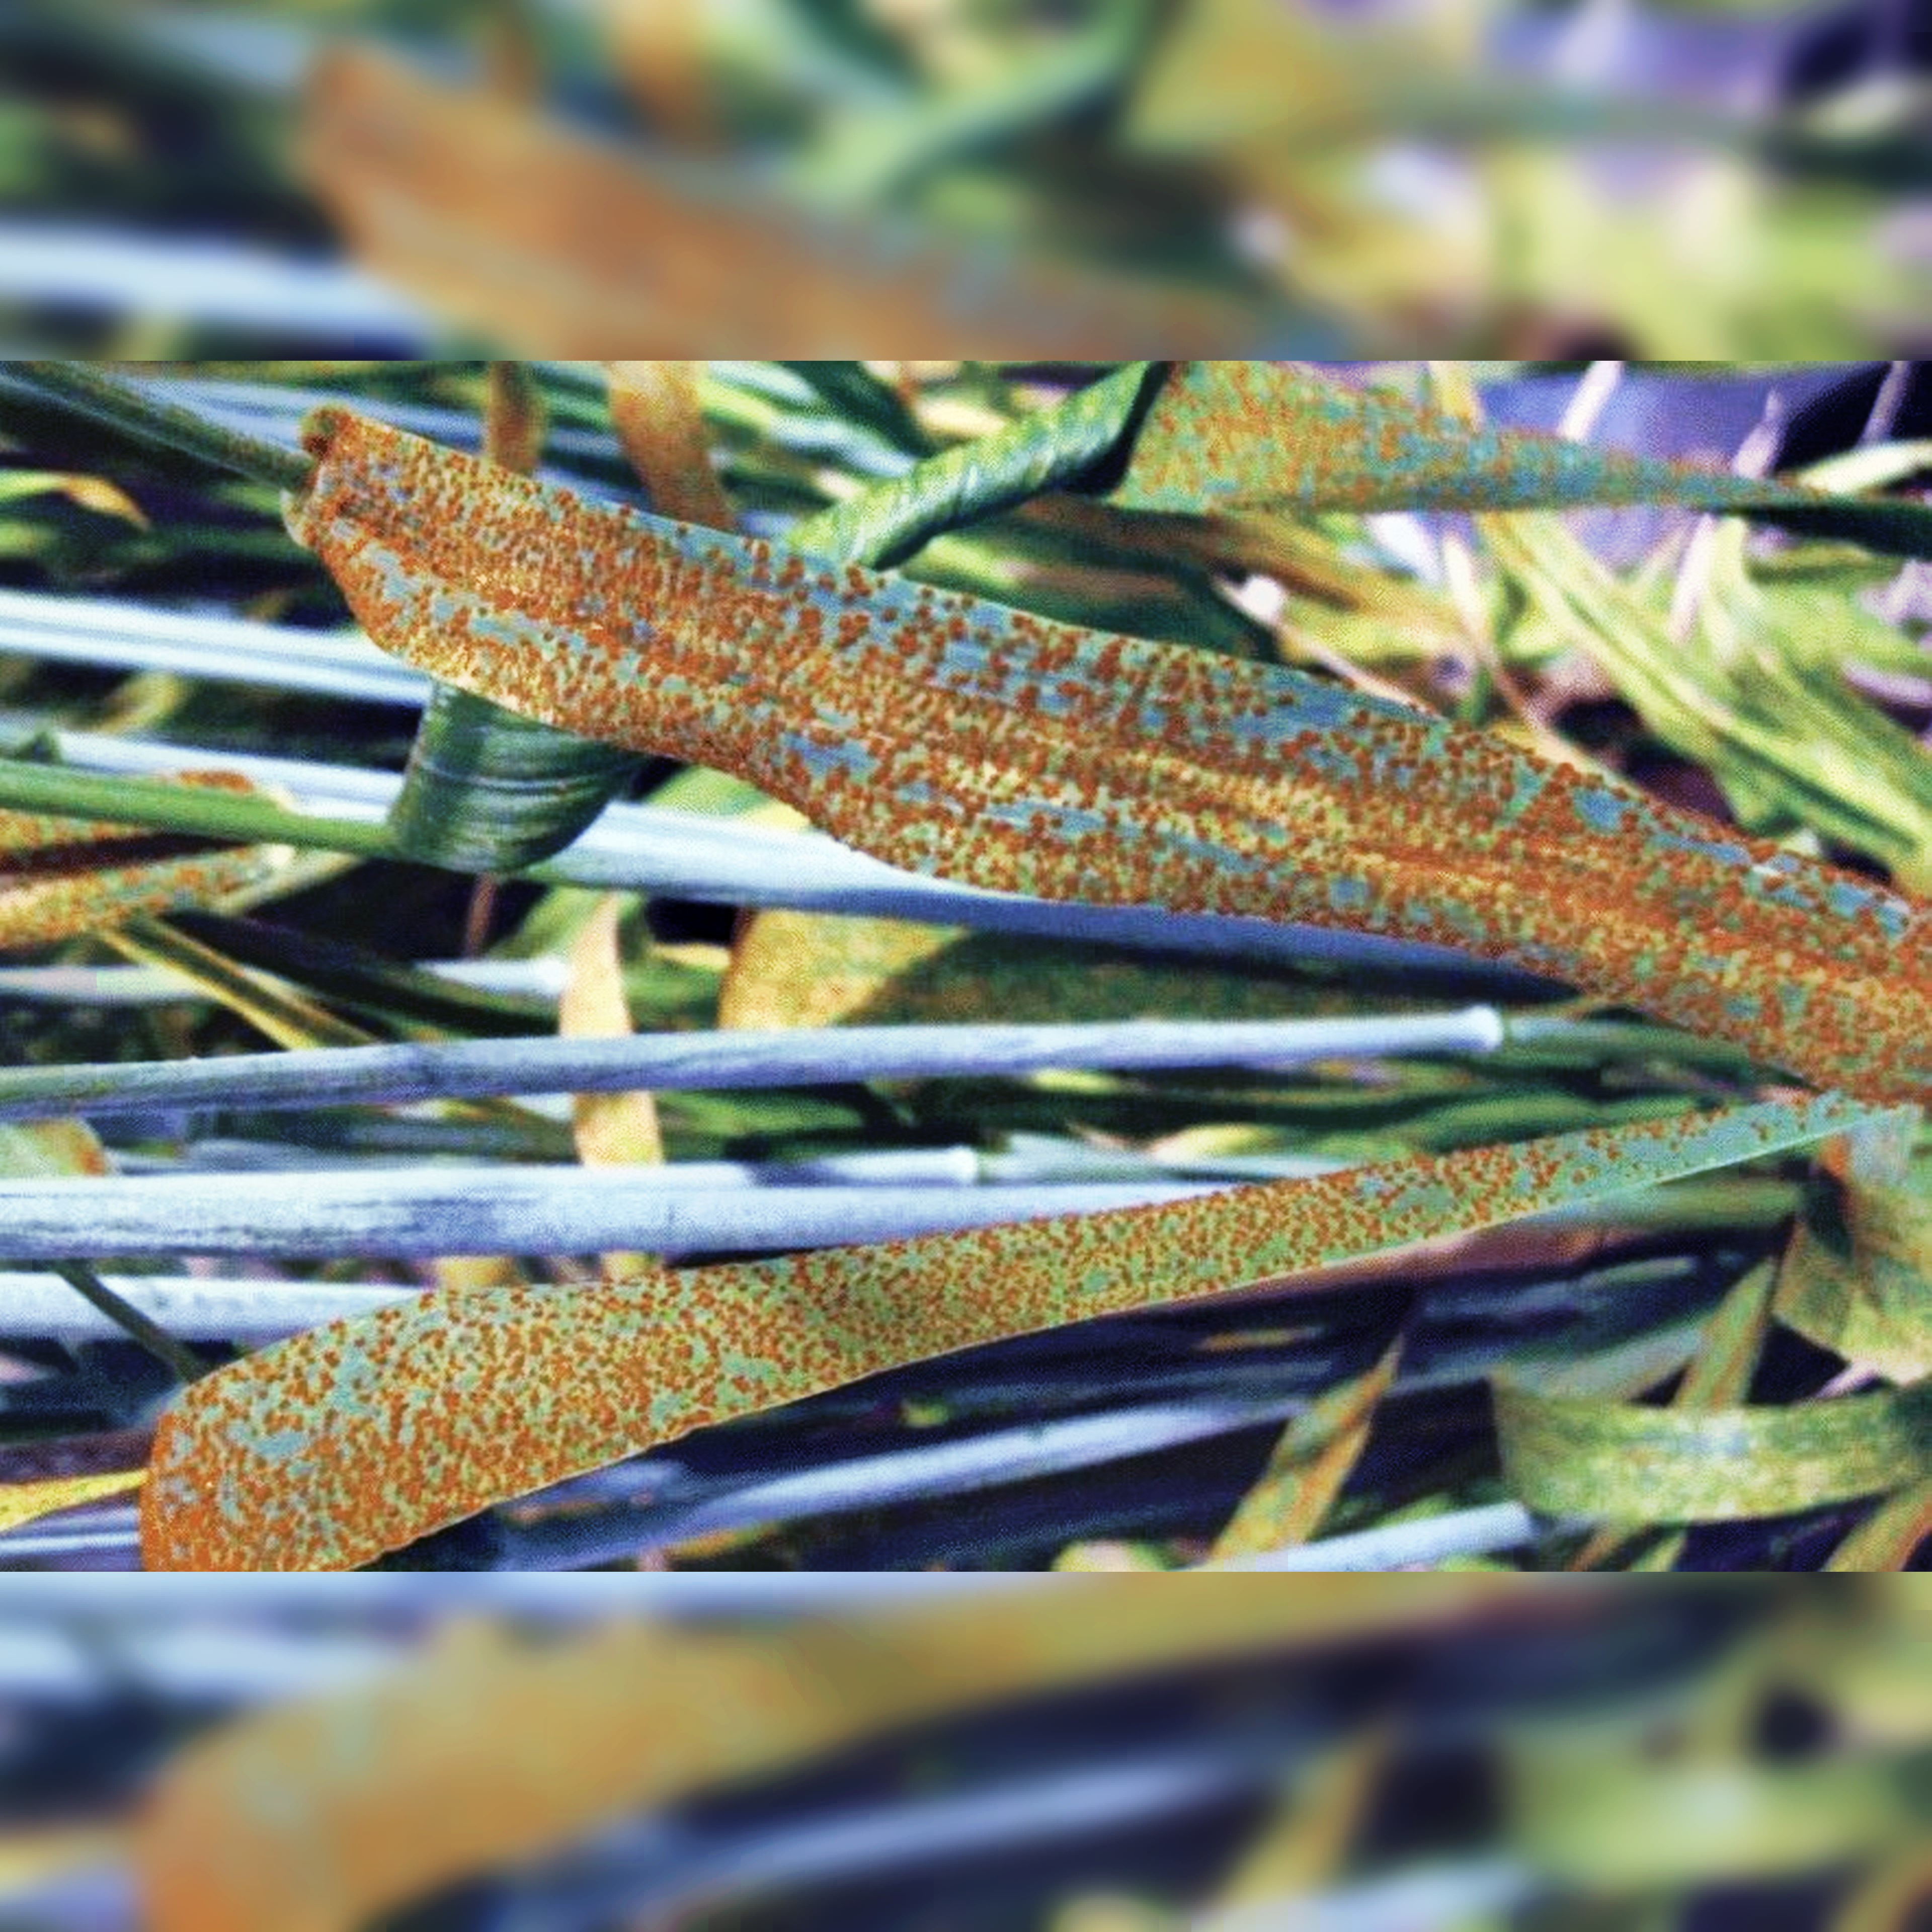Leaf Rust: (364, 446, 1872, 1049), (143, 1127, 1553, 1578)
